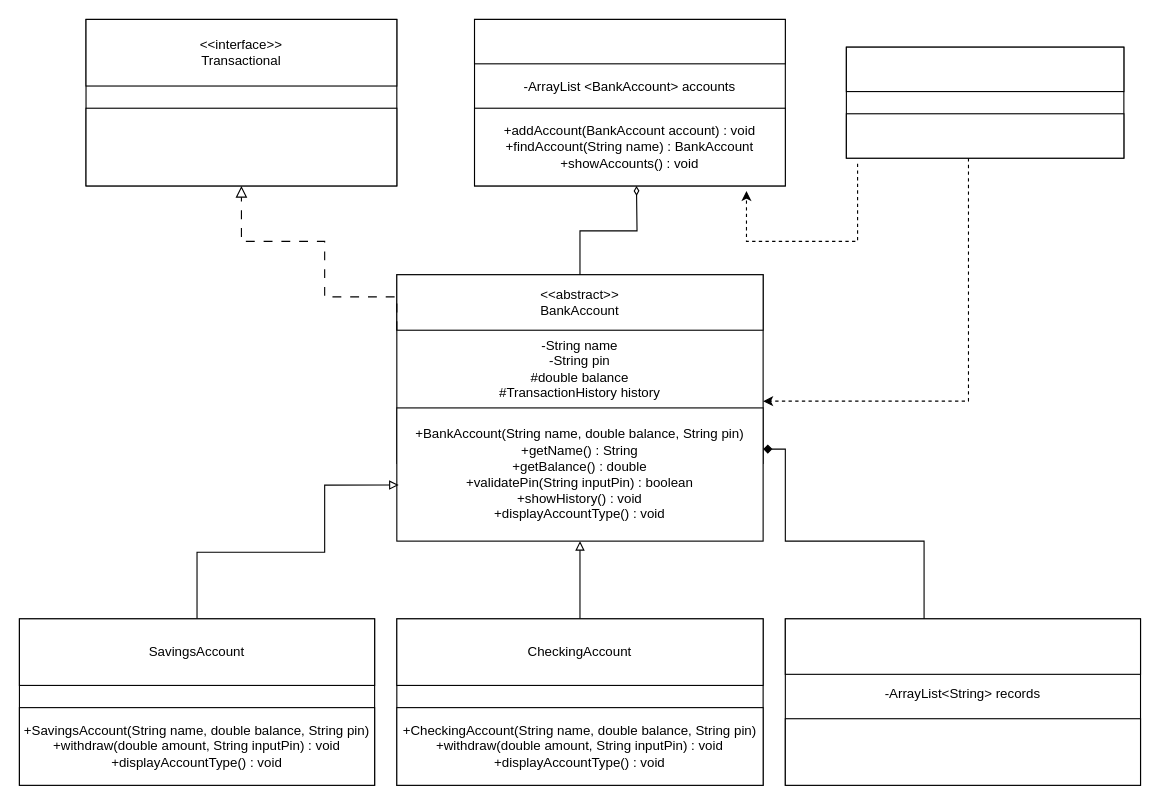
Some shapes in this 1160 by 805 pixel diagram are drawn without their labels. The centre of each missing label's shape, as x and y in pixels:
+addRecord(String record) : void +showRecords() : void: the point at 962,751
+deposit(double amount) : void +withdraw(double amount, String pin) : void: the point at 241,146
+main(args:String[]) : void: the point at 984,135
BankSystem: the point at 629,41
Main: the point at 984,69
TransactionHistory: the point at 962,646
